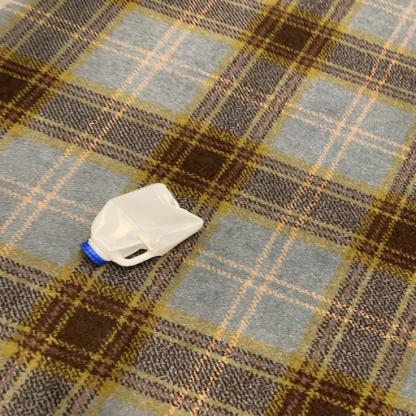trash: (80, 182, 209, 271)
